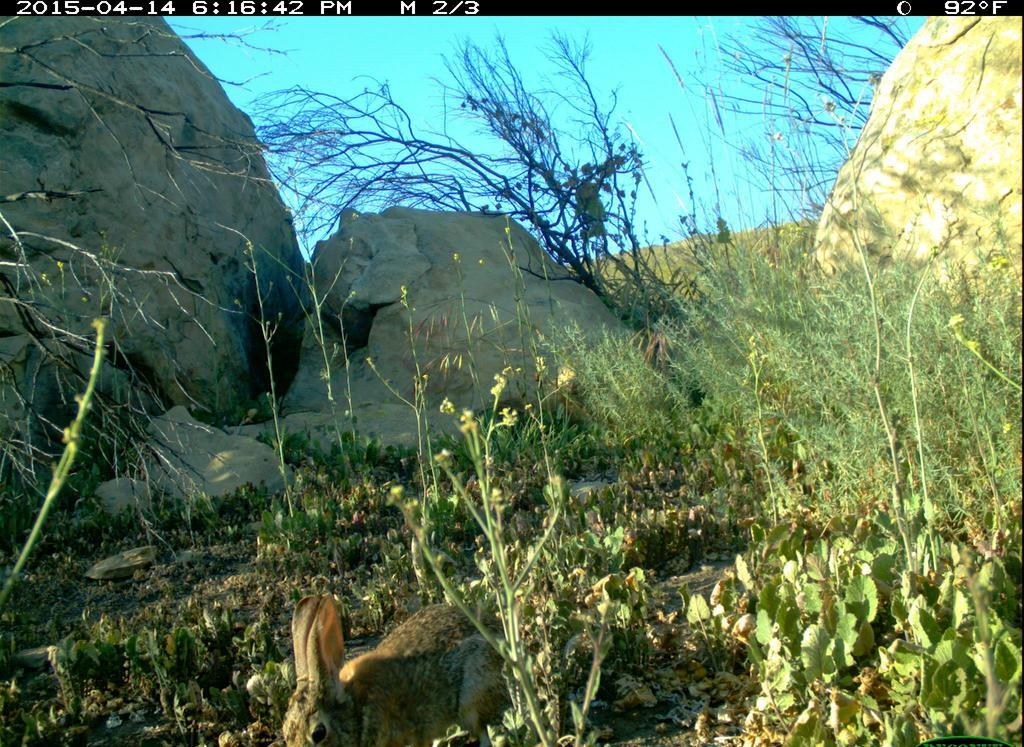rabbit: (248, 559, 530, 747)
